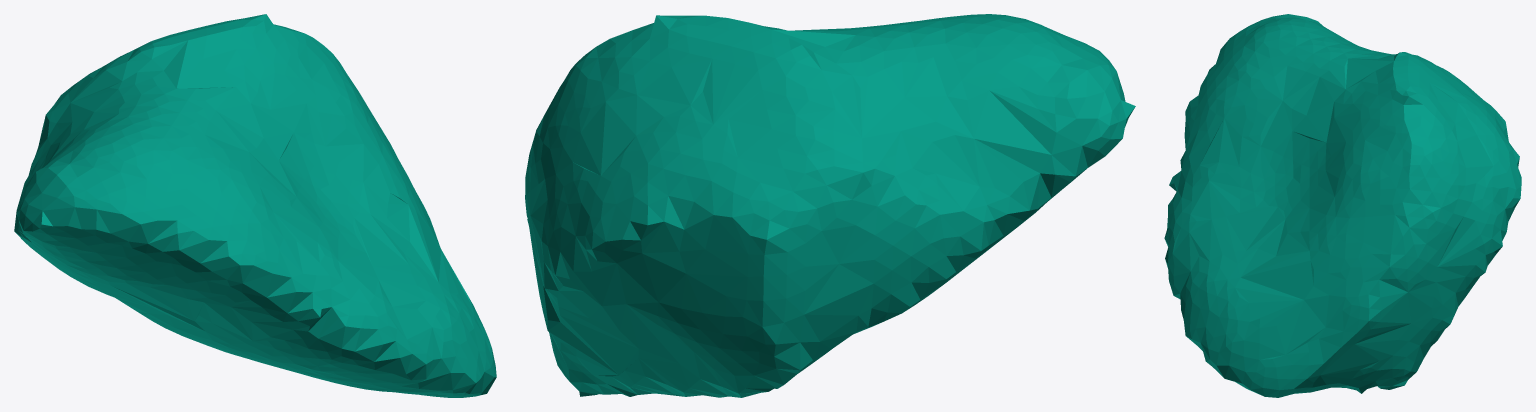
File: Model_216_RH__Internal_globus_pallidus_(IGP).obj
3 views of the same model, side by side, from view 1: azimuth 30°, elevation 25°; view 2: azimuth 150°, elevation 25°; view 3: azimuth 270°, elevation 25° (orthographic). The views are drawn at different scales.
Bounding box in the file's own units: 2.38 × 1.75 × 2.09.
